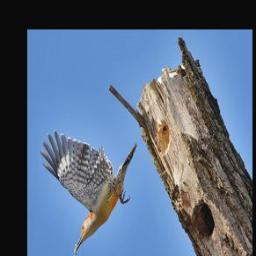Woodpecker: (39, 128, 137, 256)
